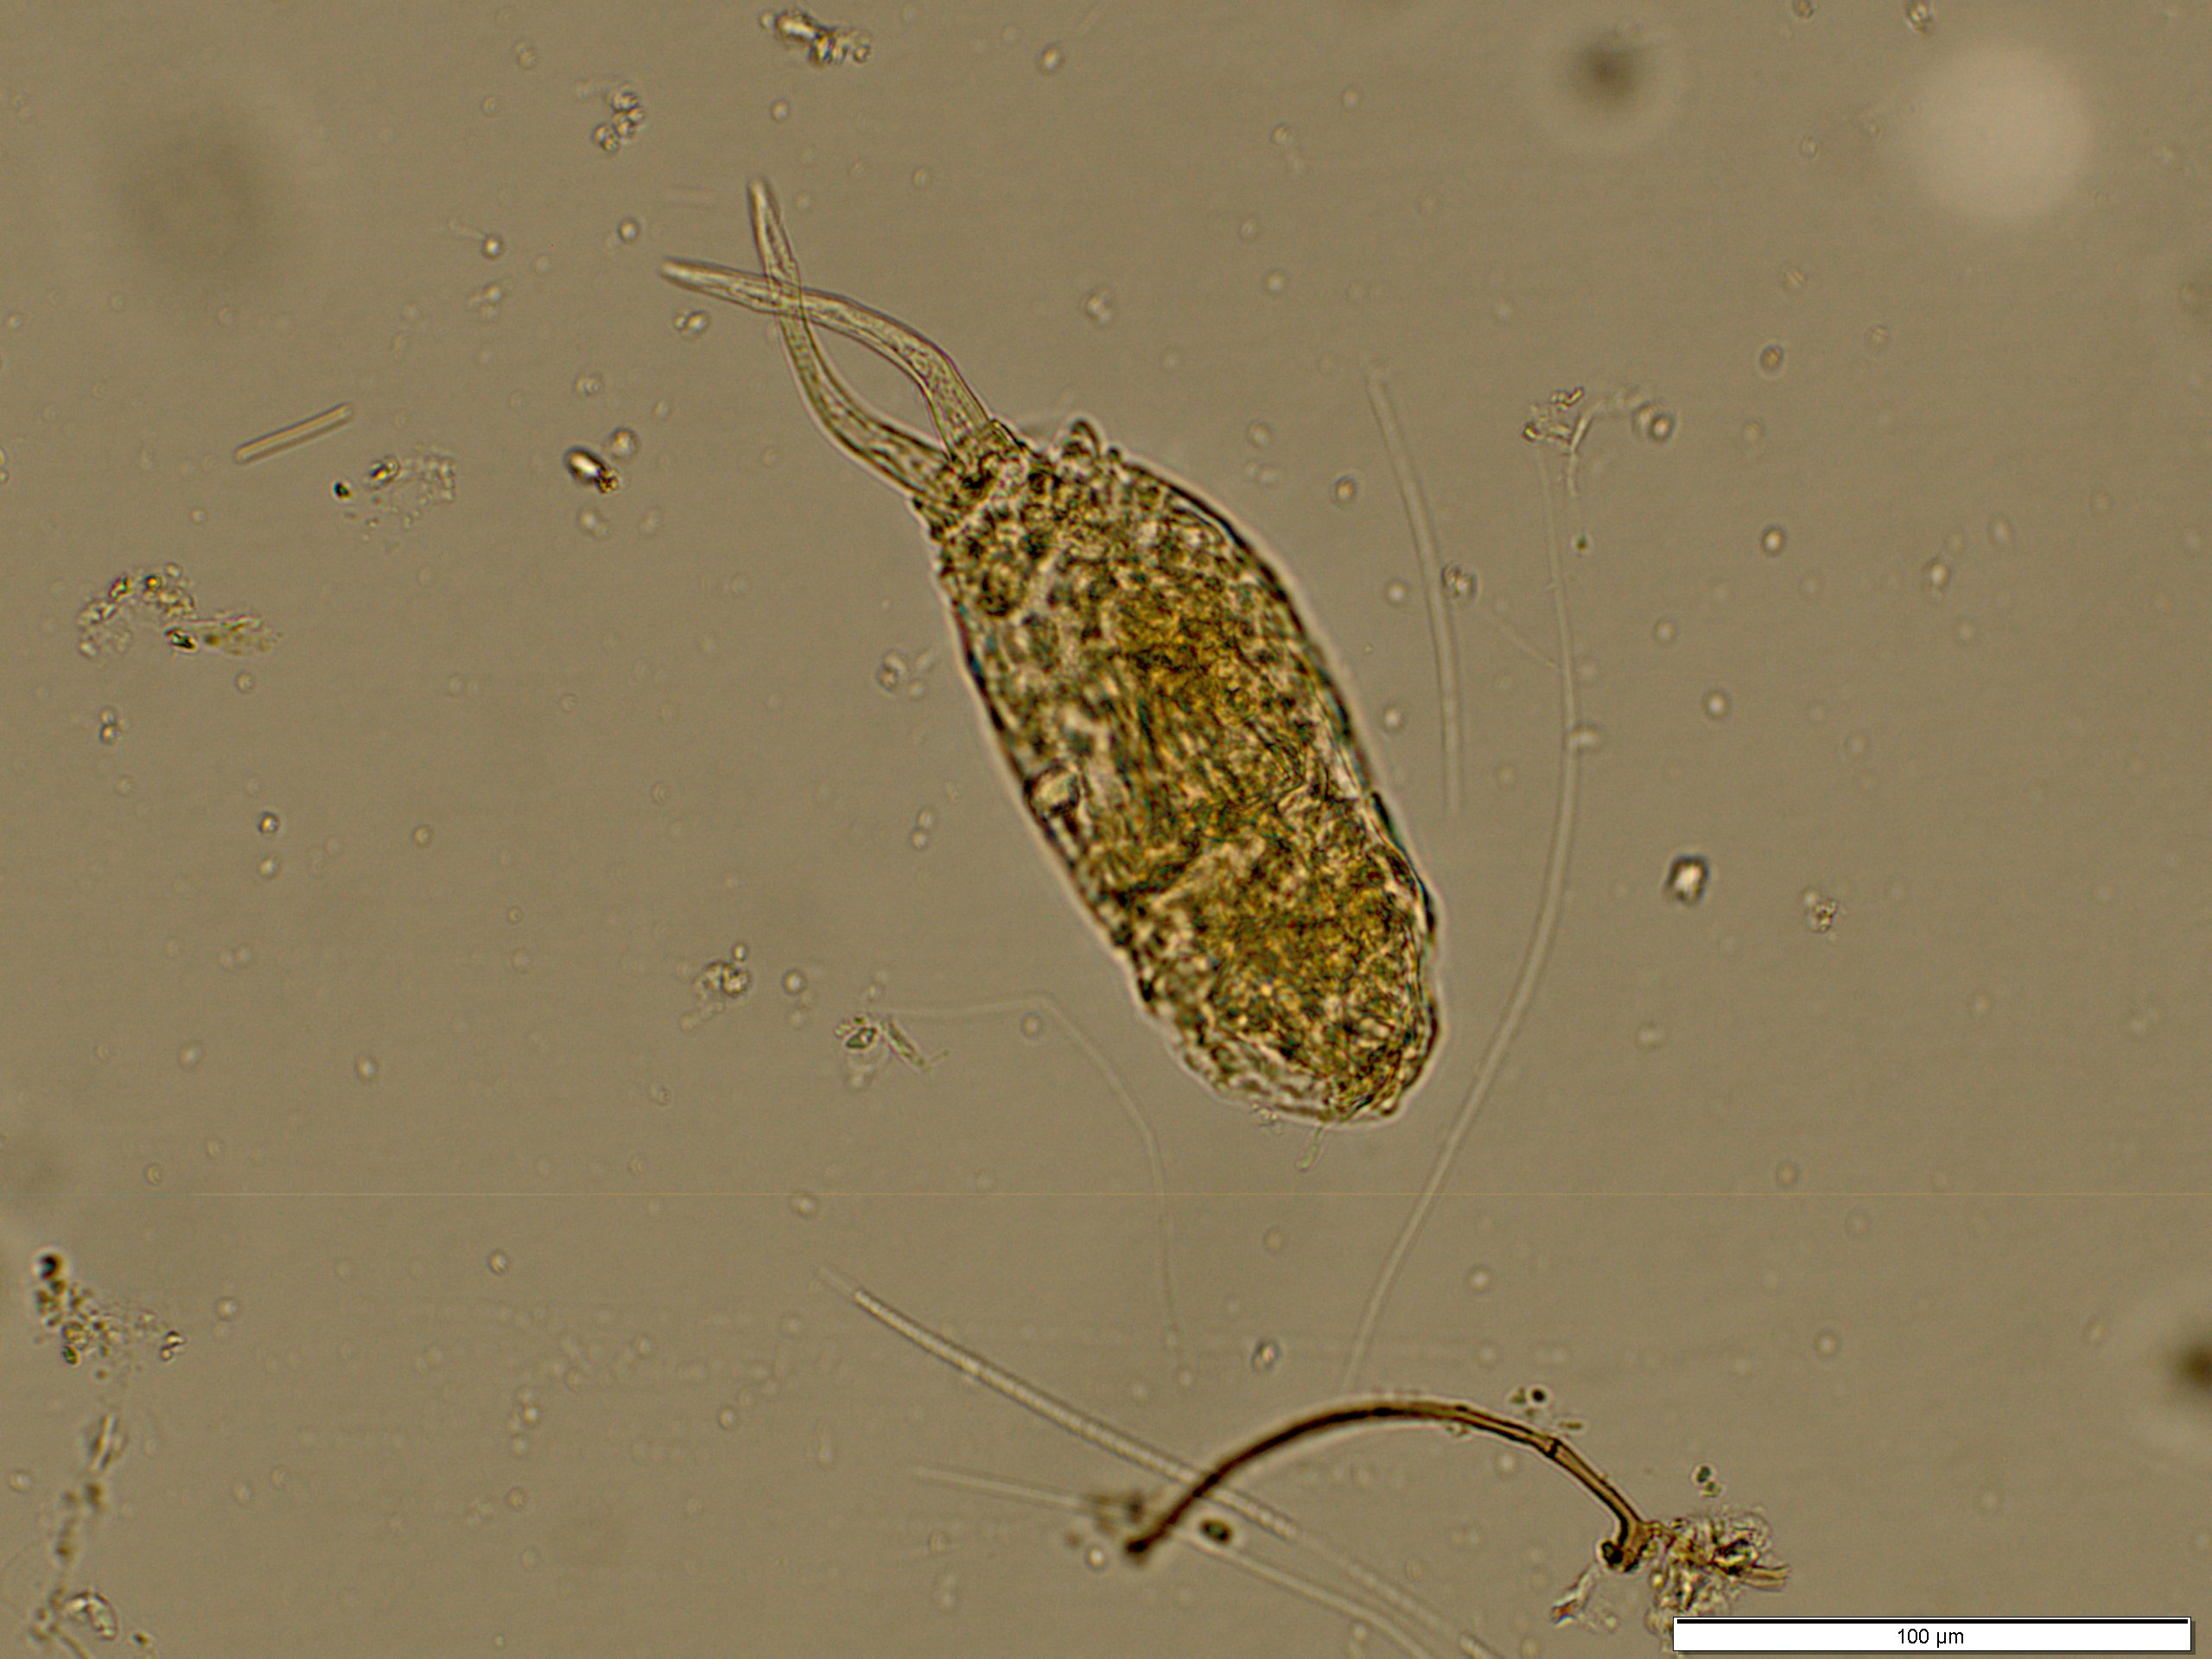rotifer: (651, 176, 1446, 1176)
